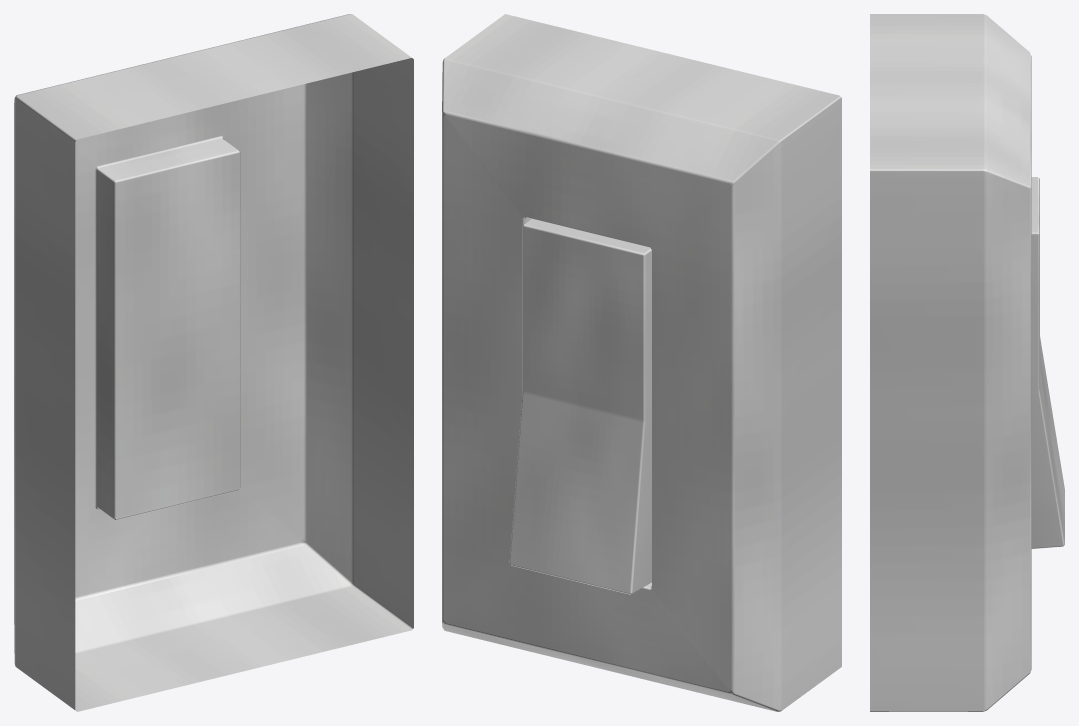
Rendered from LightSwitch.fbx.
3 views of the same model, side by side, from view 1: azimuth 30°, elevation 25°; view 2: azimuth 150°, elevation 25°; view 3: azimuth 270°, elevation 25° (orthographic). The views are drawn at different scales.
Visible parts, largest first — view 1: Light switch.003; view 2: Light switch.003, Light switch.001; view 3: Light switch.003, Light switch.001.
Boxes of the visible parts, left/top/right/bottom form: Light switch.003: left=14, top=14, right=413, bottom=711; Light switch.003: left=442, top=14, right=841, bottom=711; Light switch.001: left=509, top=219, right=651, bottom=594; Light switch.003: left=870, top=14, right=1031, bottom=711; Light switch.001: left=1031, top=177, right=1064, bottom=548.
Bounding box in the file's own units: 9.3 × 15.04 × 4.89.
